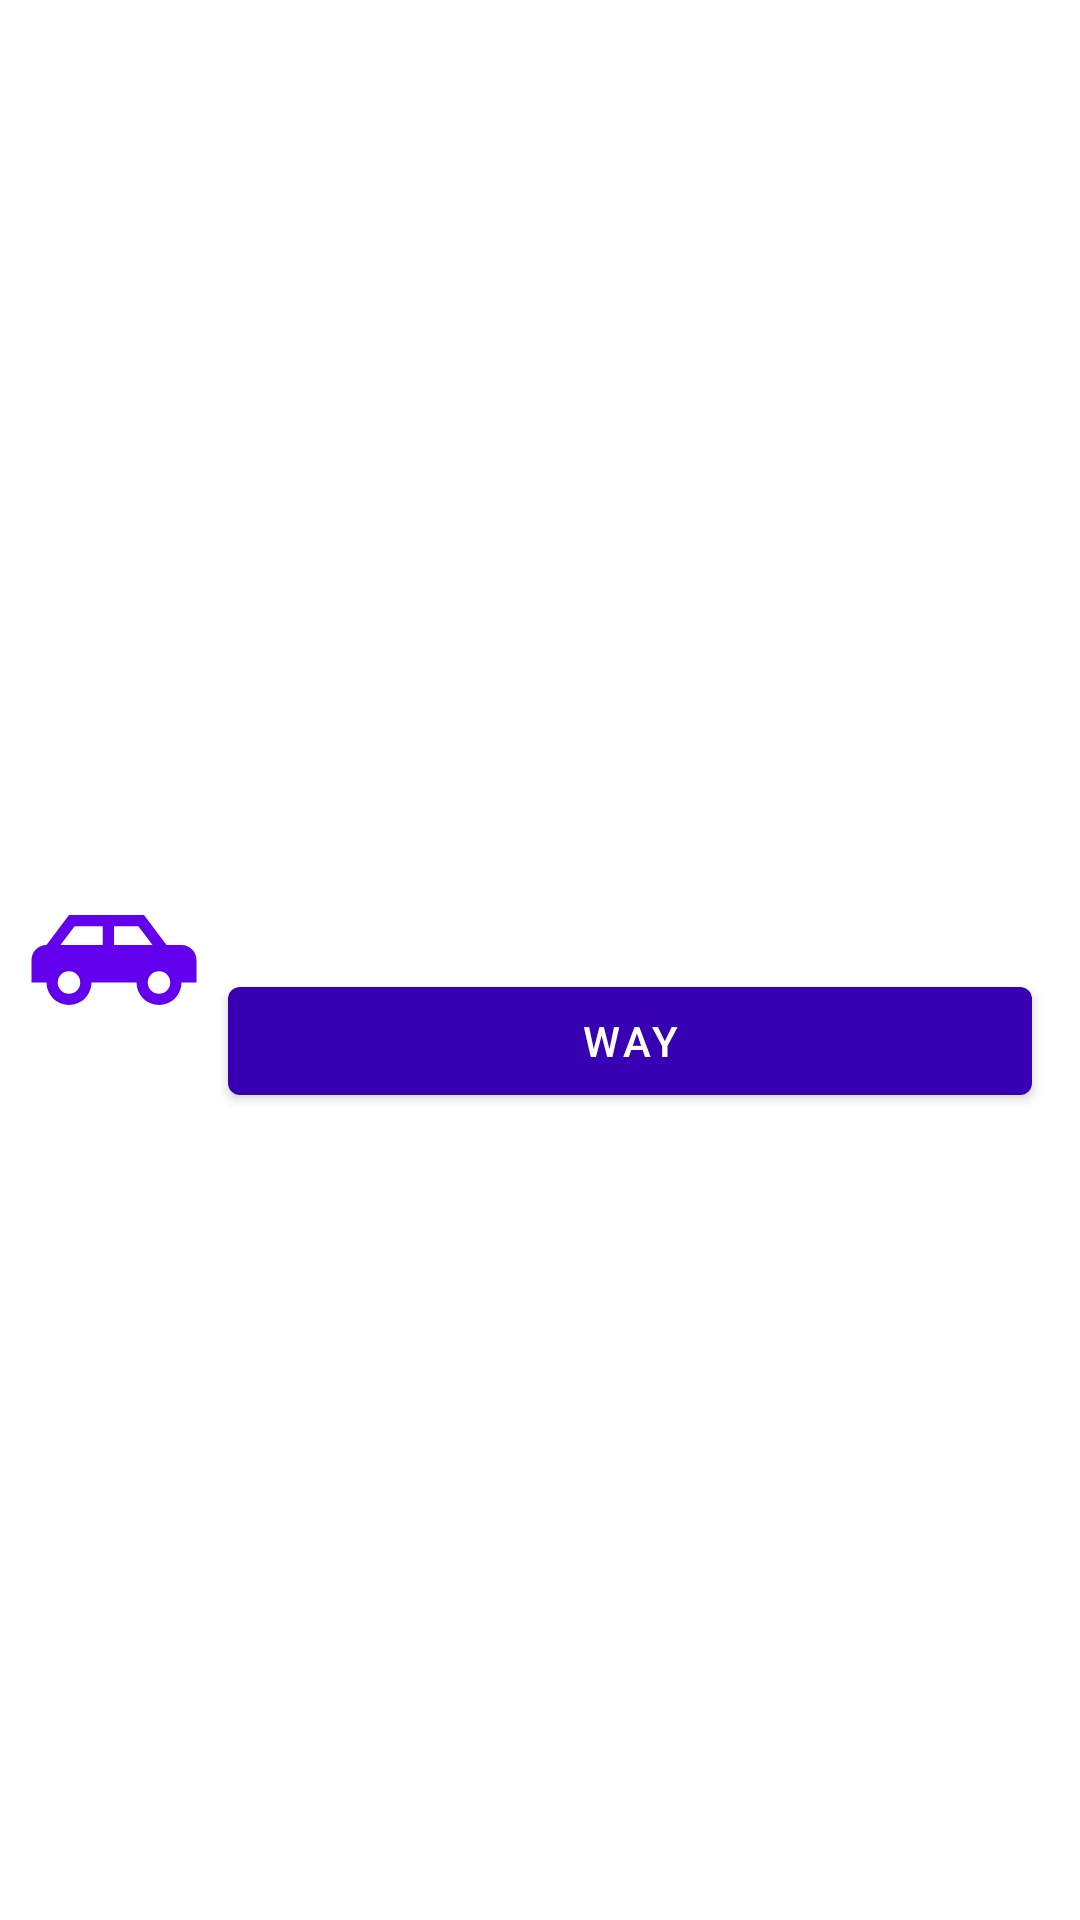

Icon bounding boxes for this 1080px x 1920px phone screenshot, format (left=x1, top=y1, right=x2, bottom=y2):
car: (left=31, top=915, right=197, bottom=1005)
